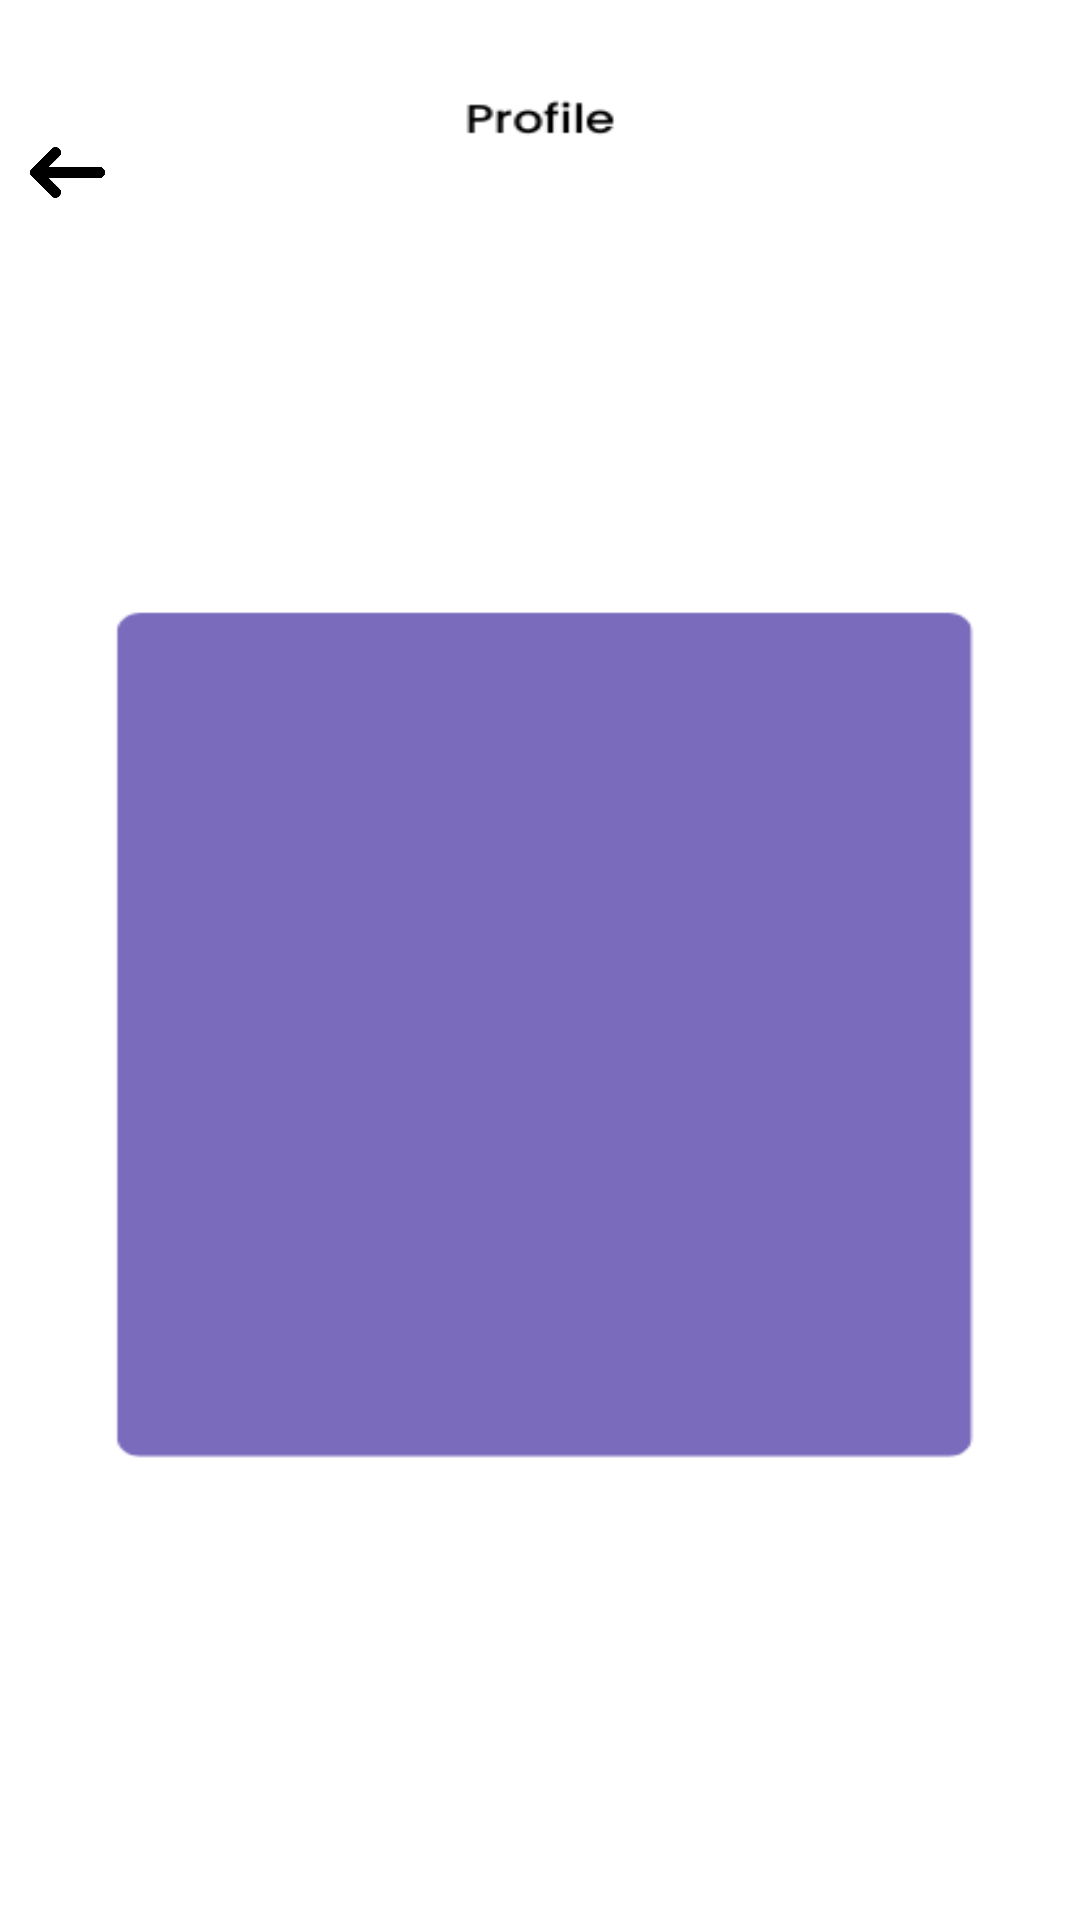

Icons on this 1080×1920 Android screen, each with its box as (x1, y1, x2, y2):
back: (30, 147, 105, 198)
